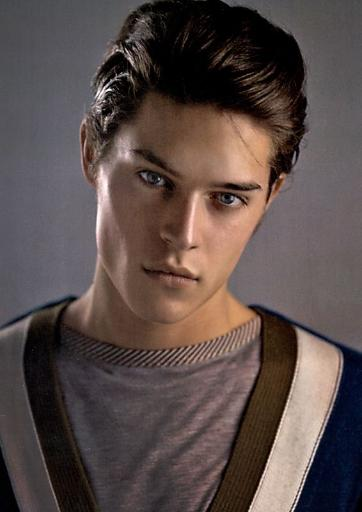left_eye: (209, 191, 250, 211)
left_lip_corner: (189, 273, 205, 286)
right_eye: (134, 168, 176, 192)
right_lip_corner: (139, 263, 154, 275)
